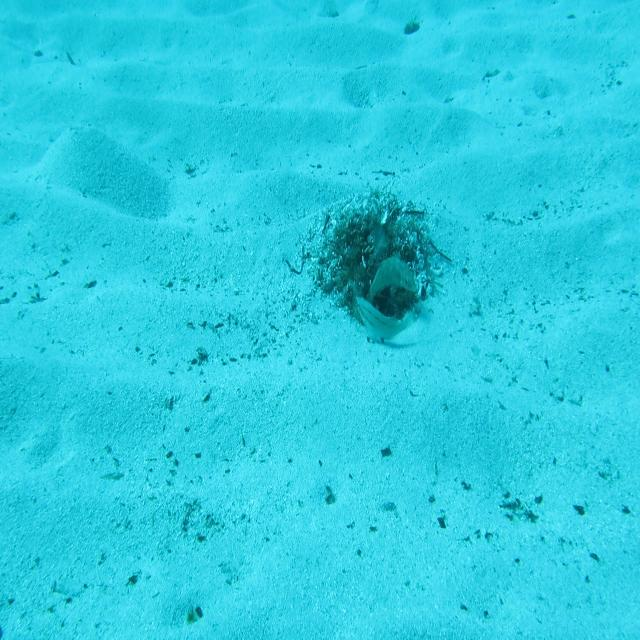DAN_CIRC: (361, 248, 419, 310)
female: (352, 296, 412, 342)
nest: (320, 194, 442, 331)
